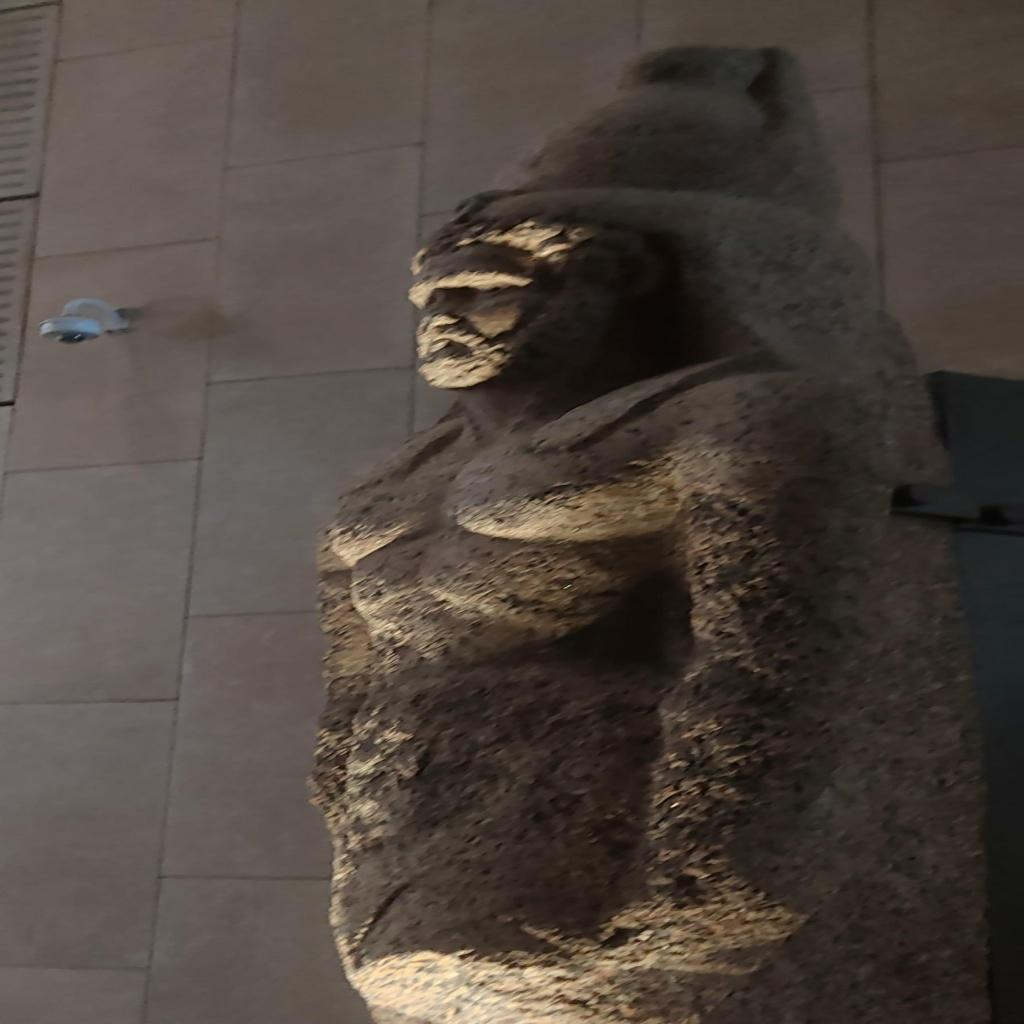Statue of Carcala: (303, 42, 995, 1020)
